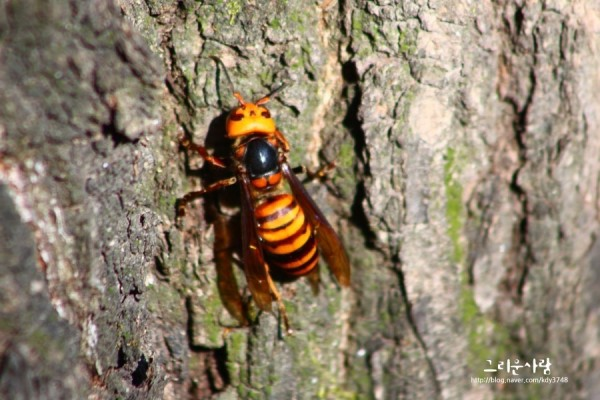asian_giant_hornet: (223, 92, 355, 293)
